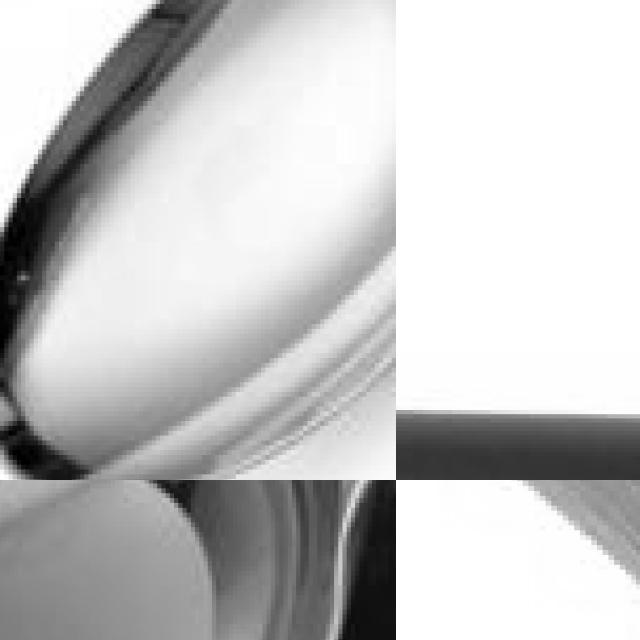spoons: (0, 0, 396, 480), (0, 480, 396, 640)
